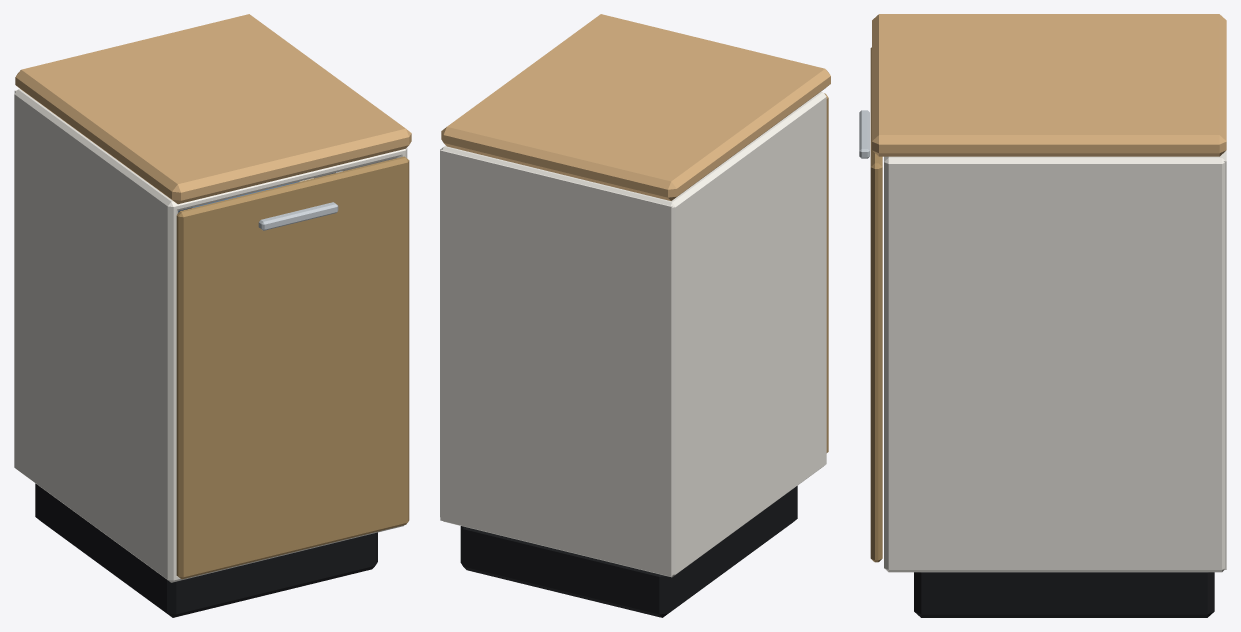
Rendered from pull_out_hamper.glb.
The picture shows the model from 3 angles, left to right: view 1: azimuth 30°, elevation 25°; view 2: azimuth 150°, elevation 25°; view 3: azimuth 270°, elevation 25°; orthographic projection. The views are drawn at different scales.
Parts seen in each view (by area): view 1: pull_out_hamper_Body, pull_out_hamper_Hamper; view 2: pull_out_hamper_Body, pull_out_hamper_Hamper; view 3: pull_out_hamper_Body, pull_out_hamper_Hamper.
Part boxes in pixels (x1=…): pull_out_hamper_Body: x1=14, y1=14, x2=411, y2=617; pull_out_hamper_Hamper: x1=176, y1=156, x2=409, y2=579; pull_out_hamper_Body: x1=440, y1=14, x2=830, y2=617; pull_out_hamper_Hamper: x1=824, y1=93, x2=828, y2=452; pull_out_hamper_Body: x1=872, y1=14, x2=1226, y2=617; pull_out_hamper_Hamper: x1=859, y1=47, x2=882, y2=562.
Bounding box in the file's own units: 0.5 × 0.9 × 0.611.
